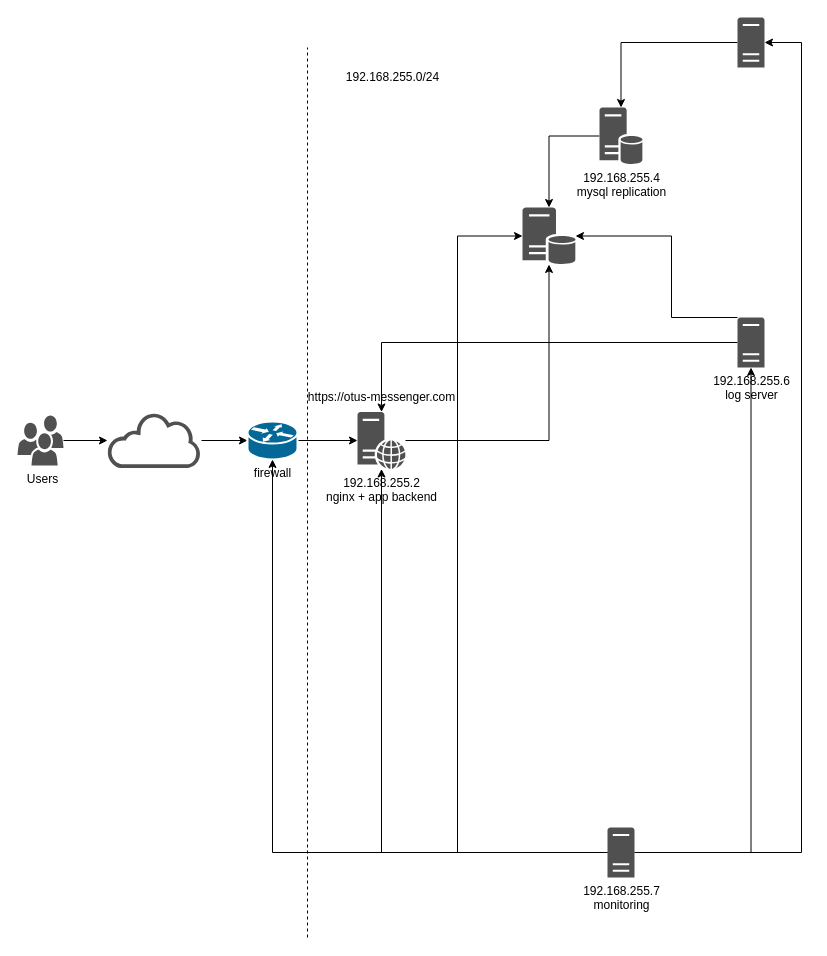
Image size: 827x956. Some labels were removed from this diagram. The box of each missing label's shape, as (x1, y1, x2, y2) in pixels:
192.168.255.3 mysql: (522, 207, 575, 264)
192.168.255.5 backup server: (737, 17, 764, 67)
